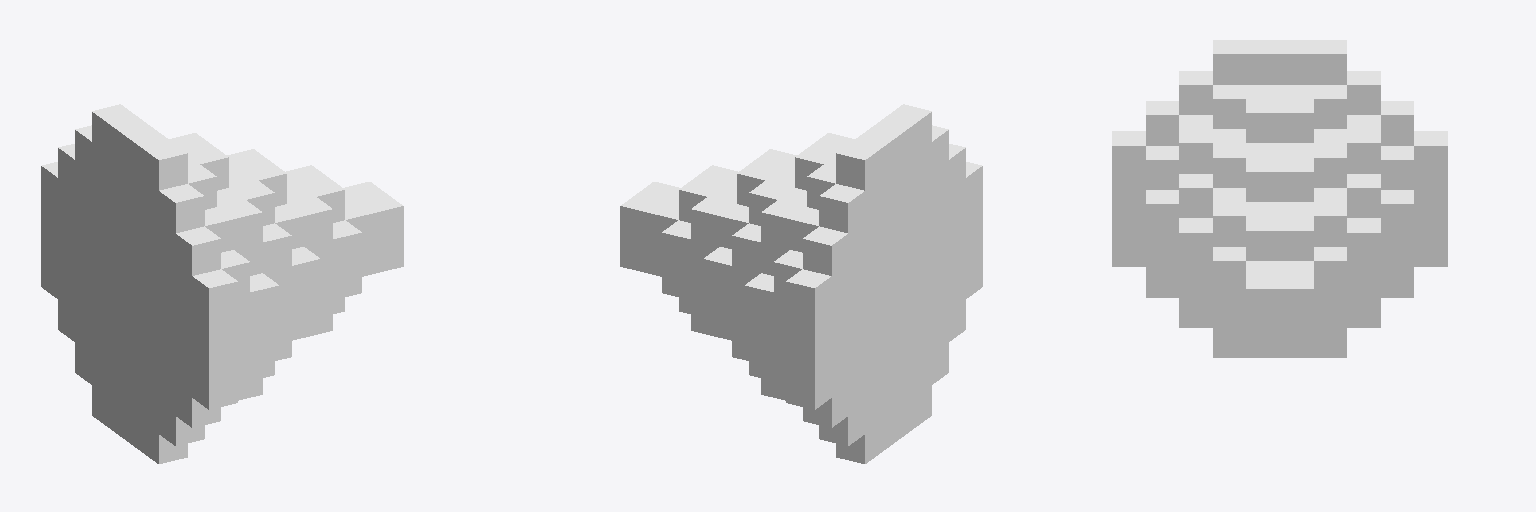
Rendered from spike_right.obj.
3 views of the same model, side by side, from view 1: azimuth 30°, elevation 25°; view 2: azimuth 150°, elevation 25°; view 3: azimuth 270°, elevation 25° (orthographic).
Visible parts, largest first — view 1: object 1; view 2: object 1; view 3: object 1.
Boxes of the visible parts, x1=… form: object 1: x1=41, y1=104, x2=403, y2=463; object 1: x1=620, y1=104, x2=982, y2=463; object 1: x1=1112, y1=40, x2=1447, y2=357.
Bounding box in the file's own units: 0.9 × 1 × 1.